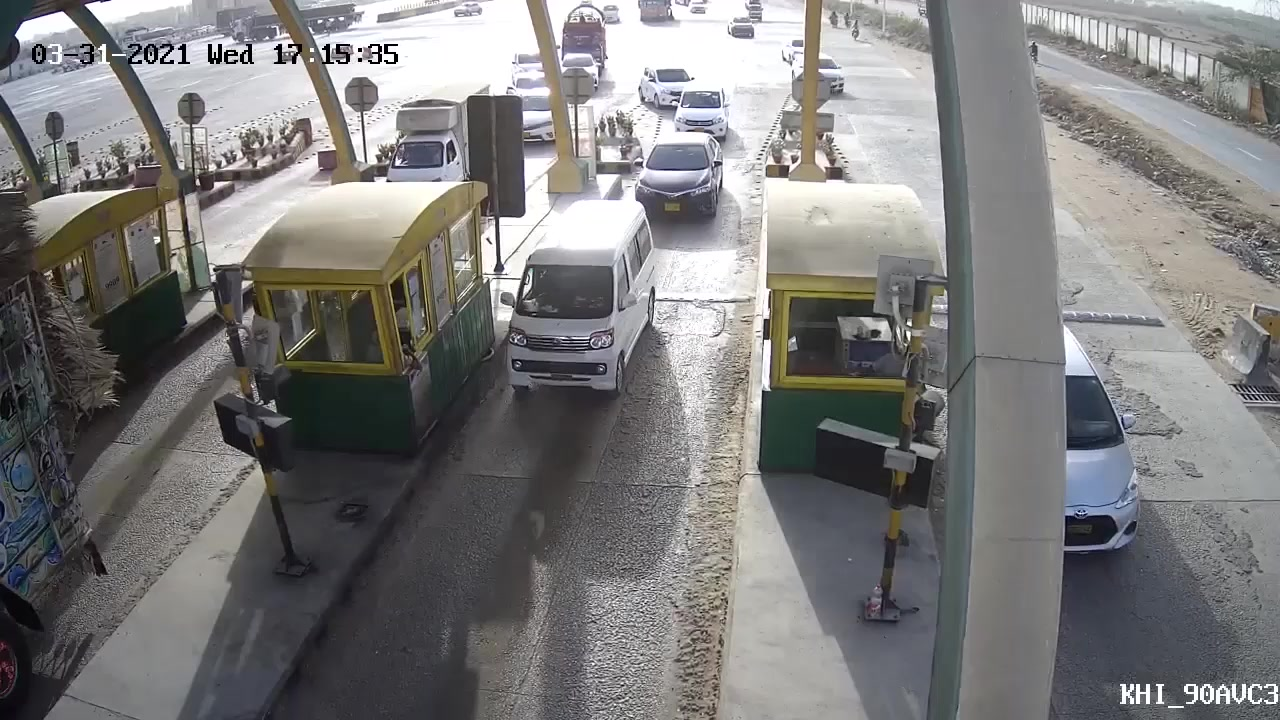F1: (489, 199, 659, 422), (630, 131, 729, 224)
